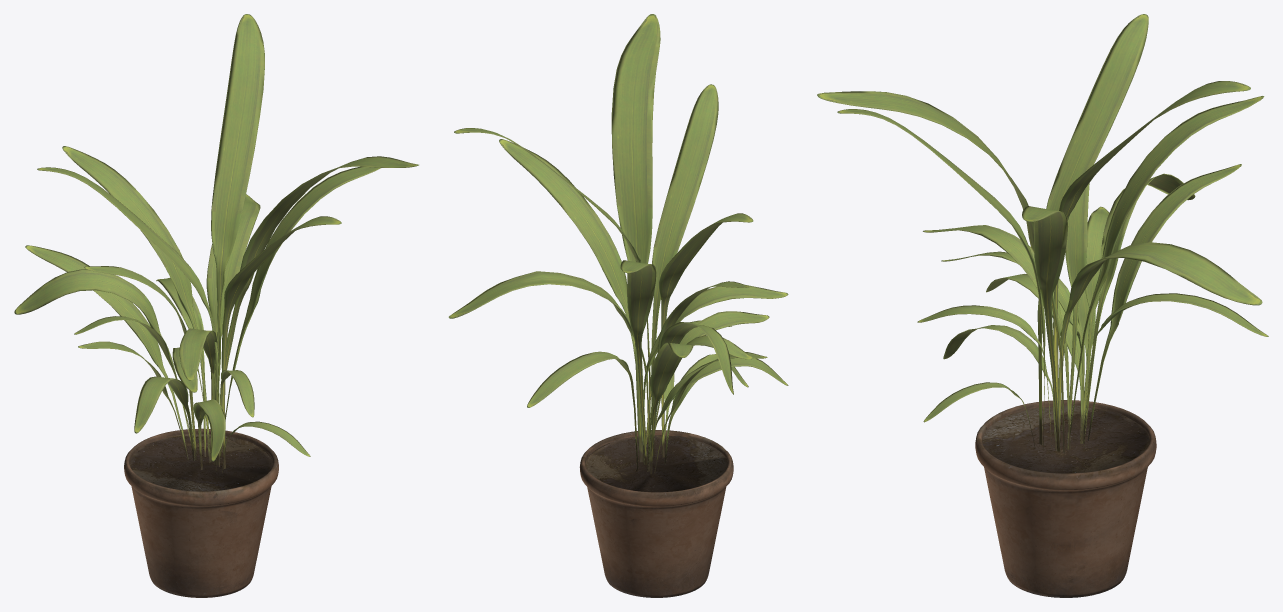
The picture shows the model from 3 angles, left to right: view 1: azimuth 30°, elevation 25°; view 2: azimuth 150°, elevation 25°; view 3: azimuth 270°, elevation 25°; orthographic projection. The views are drawn at different scales.
Visible parts, largest first — view 1: Pflanze_Pflanzenmaterial_0; view 2: Pflanze_Pflanzenmaterial_0; view 3: Pflanze_Pflanzenmaterial_0.
Boxes of the visible parts, x1=… form: Pflanze_Pflanzenmaterial_0: x1=14, y1=14, x2=418, y2=597; Pflanze_Pflanzenmaterial_0: x1=448, y1=14, x2=788, y2=597; Pflanze_Pflanzenmaterial_0: x1=817, y1=14, x2=1268, y2=597.
Bounding box in the file's own units: 172 × 254 × 187.
1 material, 1 textured.
